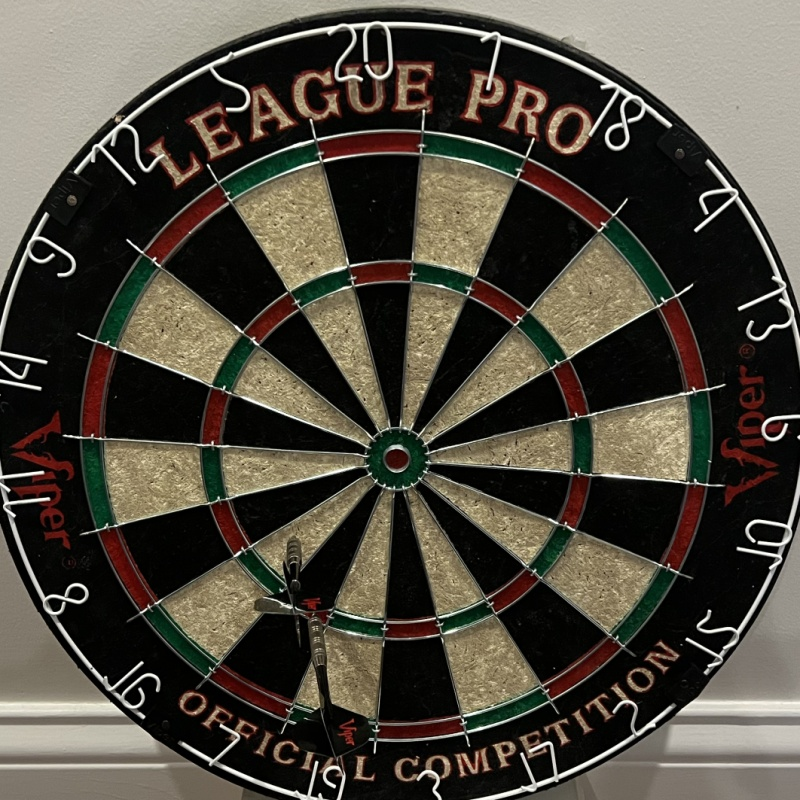dart: (303, 608, 325, 631), (283, 531, 301, 555)
eleven: (1, 468, 52, 517)
twenty: (328, 20, 394, 82)
